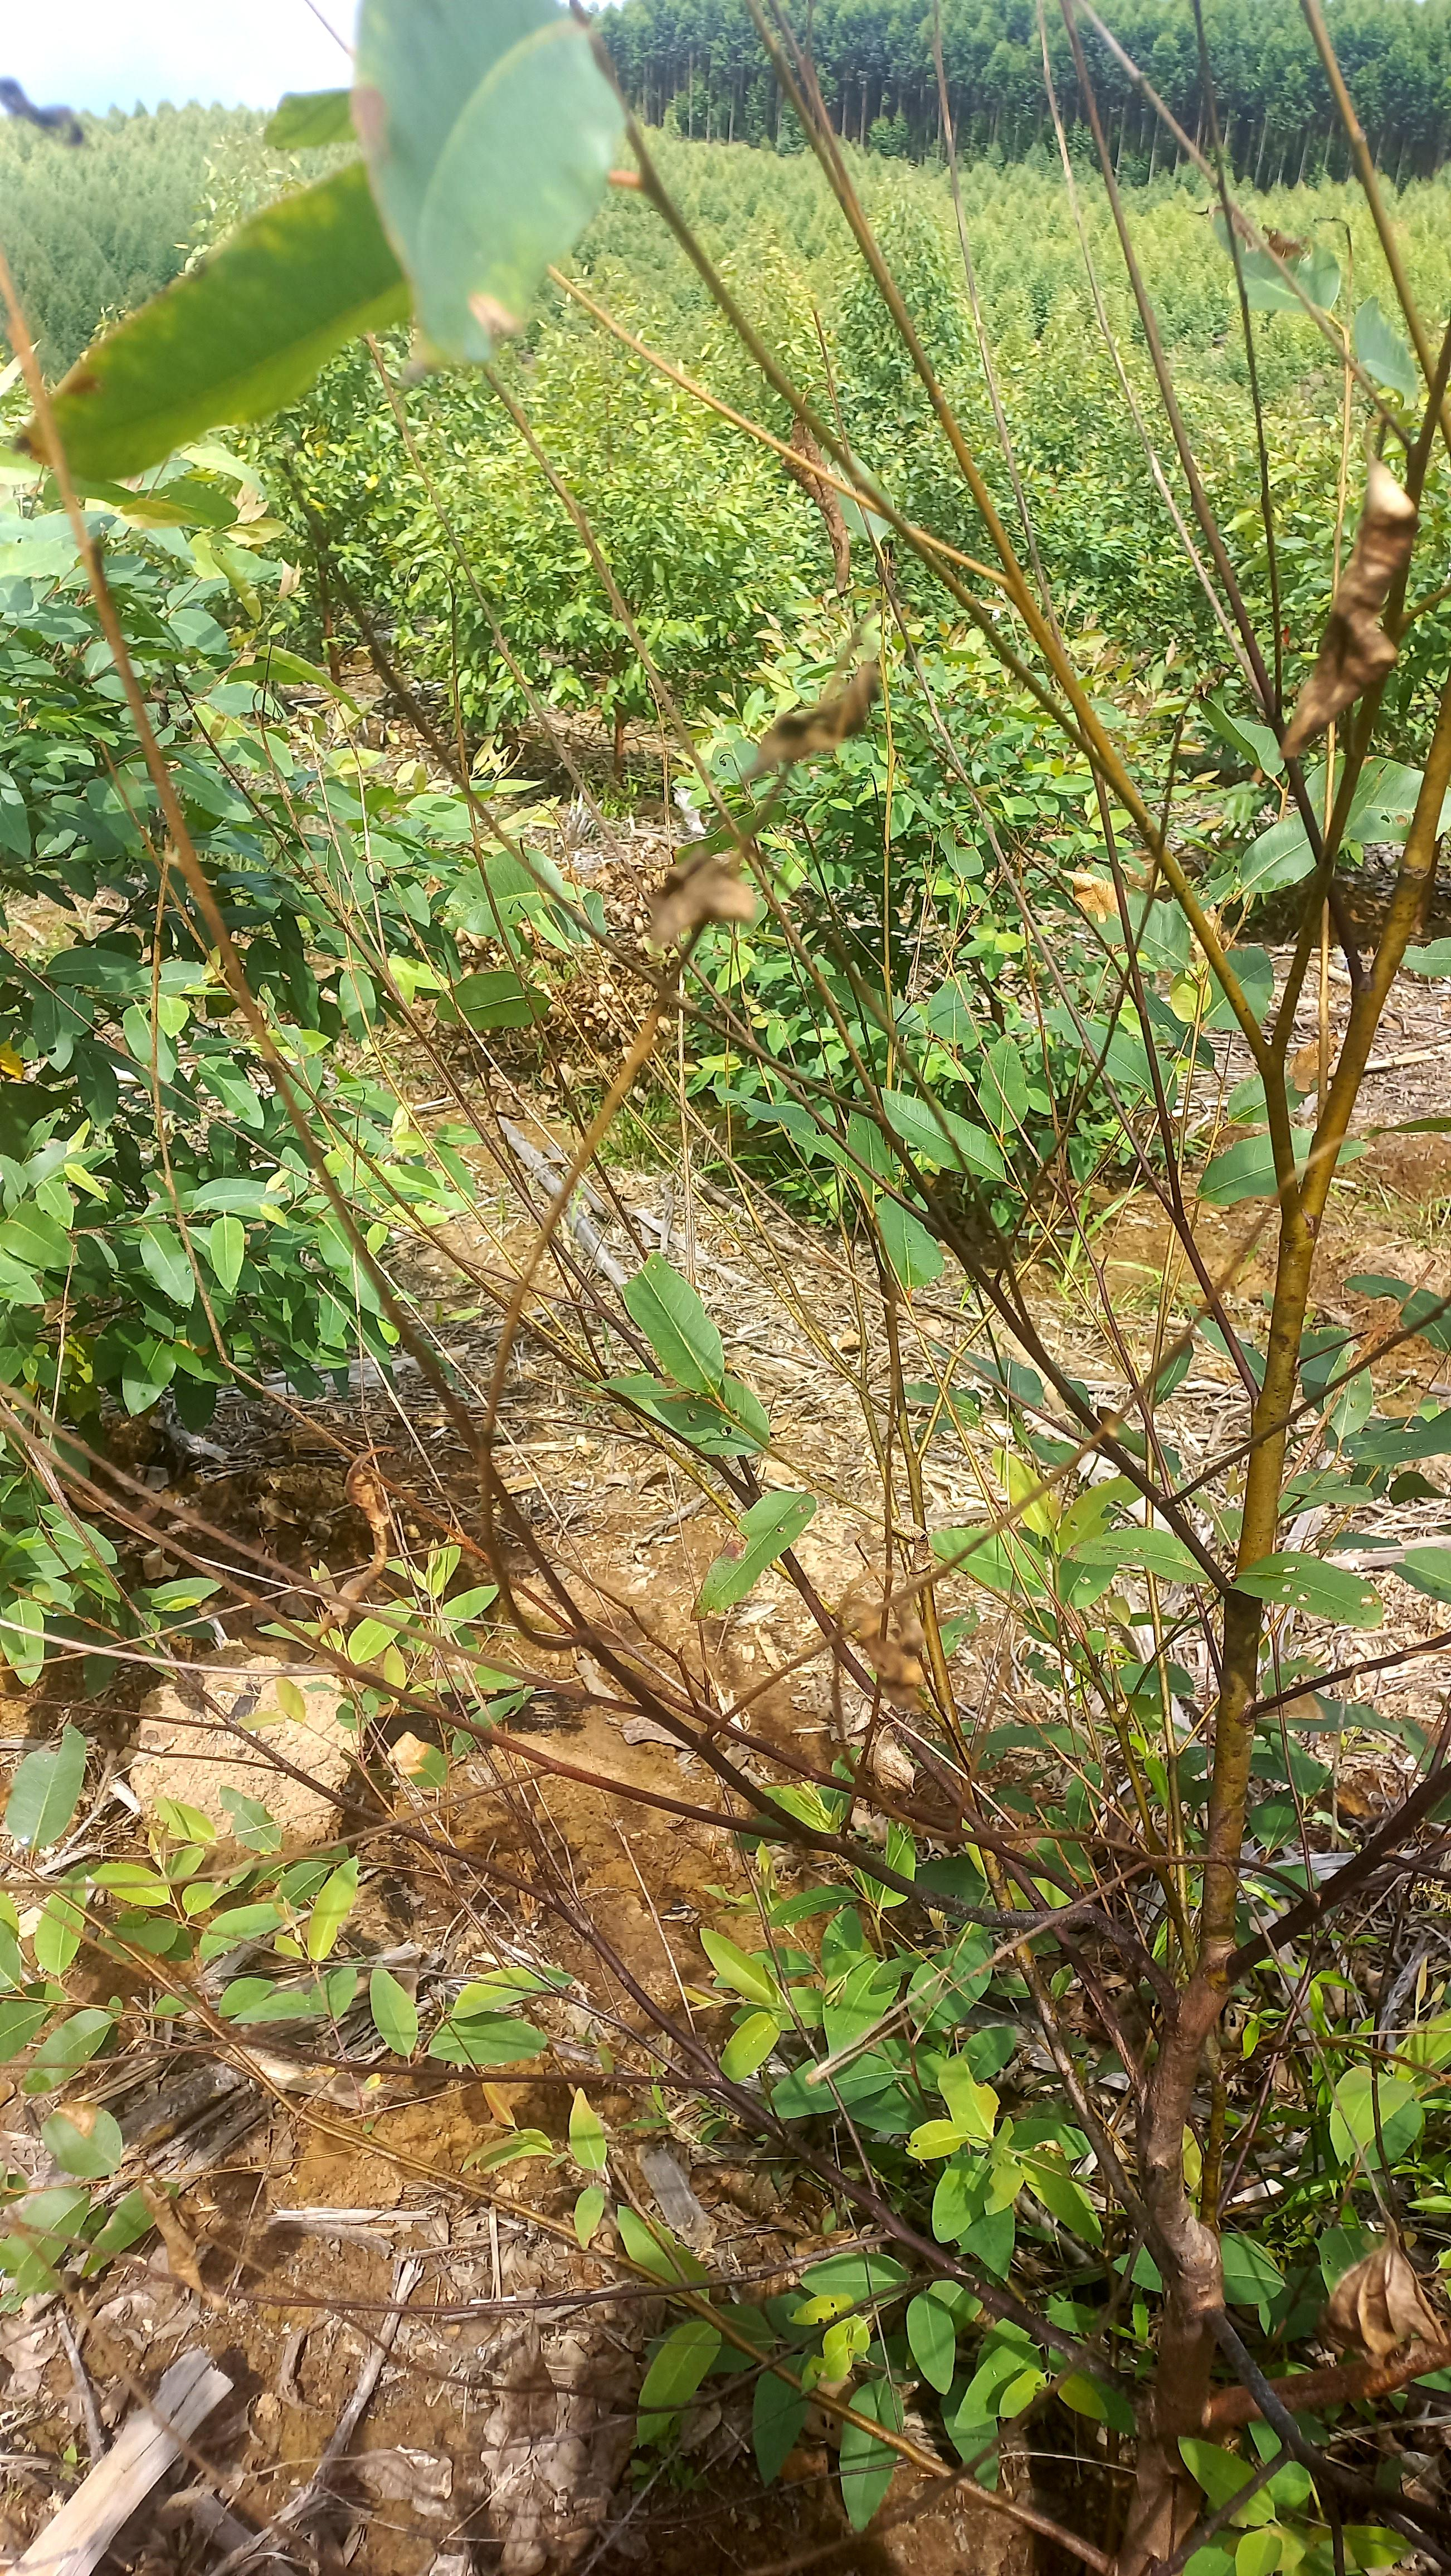Helopeltis-Withered Sprout: (1244, 448, 1424, 798), (1322, 2219, 1437, 2442), (319, 1415, 439, 1626), (630, 821, 773, 987), (764, 630, 888, 798), (826, 1723, 982, 1836)
